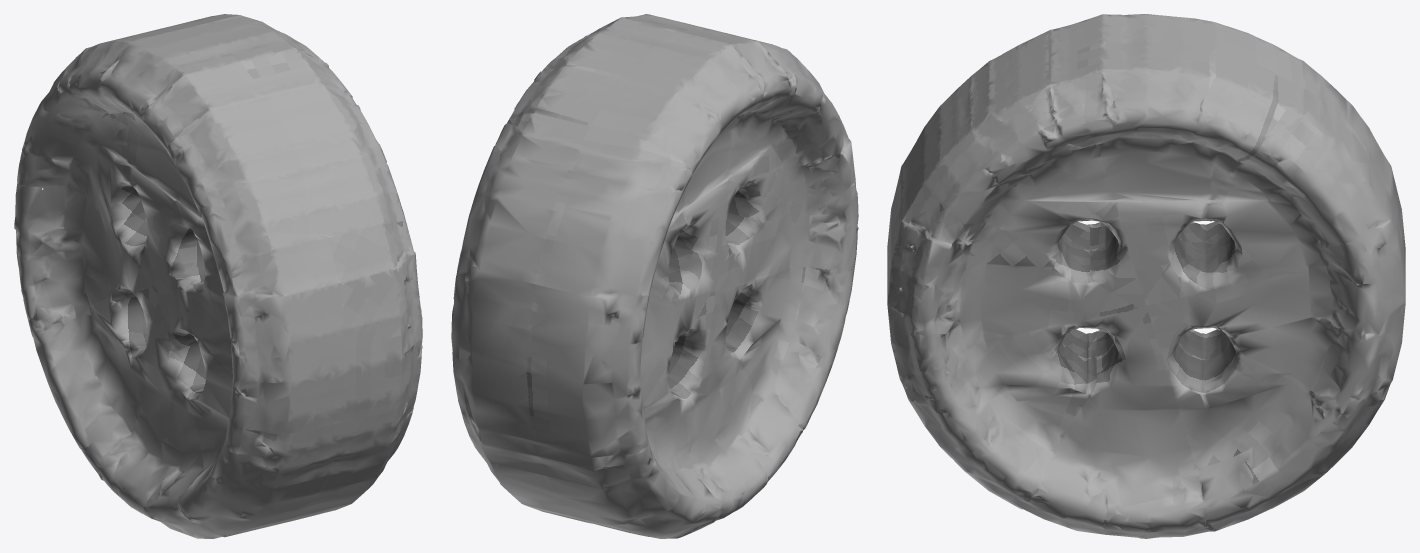
The model's file is xs_button.glb.
3 renders of one model, left to right at view 1: azimuth 30°, elevation 25°; view 2: azimuth 150°, elevation 25°; view 3: azimuth 270°, elevation 25°, orthographic.
Parts seen in each view (by area): view 1: tripo_node_223b68a9-f91f-4da8-92a2-2bb6711d453e; view 2: tripo_node_223b68a9-f91f-4da8-92a2-2bb6711d453e; view 3: tripo_node_223b68a9-f91f-4da8-92a2-2bb6711d453e.
Boxes of the visible parts, x1,y1,x2,y2 form: tripo_node_223b68a9-f91f-4da8-92a2-2bb6711d453e: [14, 14, 422, 538]; tripo_node_223b68a9-f91f-4da8-92a2-2bb6711d453e: [451, 14, 858, 538]; tripo_node_223b68a9-f91f-4da8-92a2-2bb6711d453e: [887, 14, 1405, 538].
Bounding box in the file's own units: 0.4231 × 1 × 1.
1 material, 1 textured.
